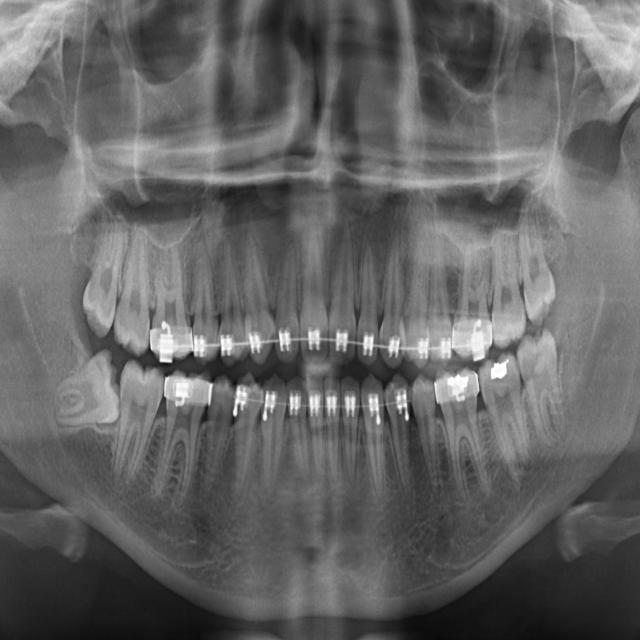AmalgamRestoration: (444, 372, 472, 396), (488, 358, 511, 385)
